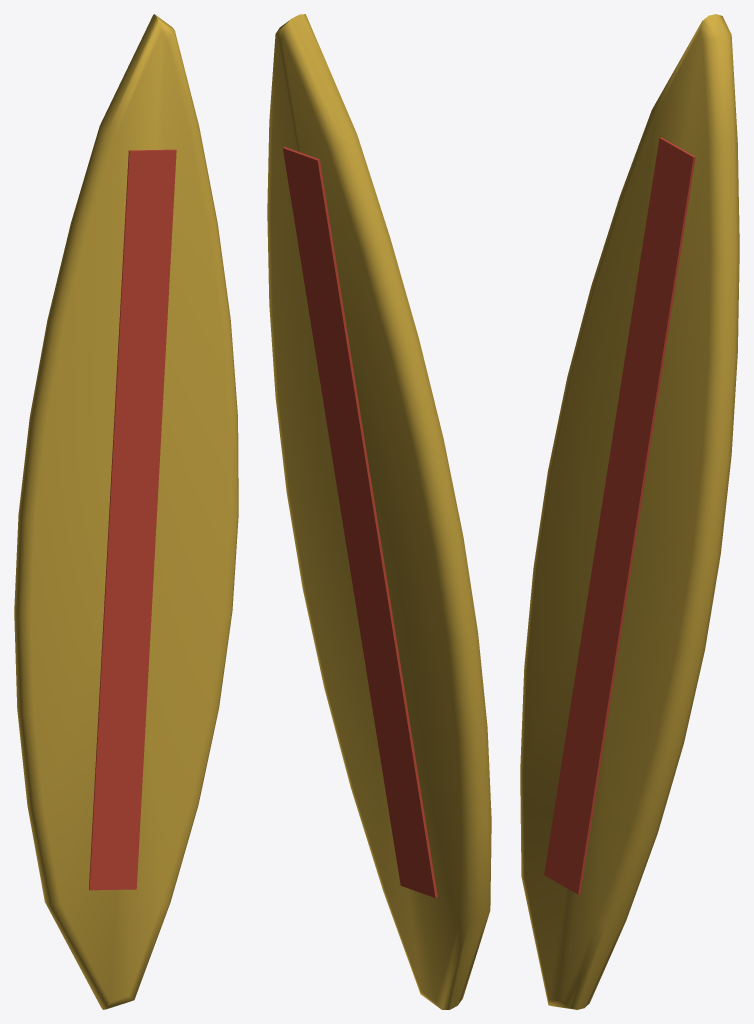
File: surfboard-b.glb
3 renders of one model, left to right at view 1: azimuth 30°, elevation 25°; view 2: azimuth 150°, elevation 25°; view 3: azimuth 330°, elevation 25°, orthographic. The views are drawn at different scales.
Visible parts, largest first — view 1: surfboard-b; view 2: surfboard-b; view 3: surfboard-b.
Part boxes in pixels (x1,y1,x2,y2): surfboard-b: [14, 14, 238, 1009]; surfboard-b: [267, 14, 491, 1009]; surfboard-b: [520, 14, 739, 1009].
Bounding box in the file's own units: 0.4847 × 2.13 × 0.2736.
